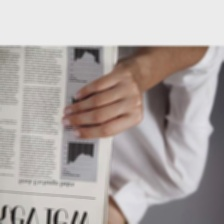news_paper: (0, 42, 122, 224)
